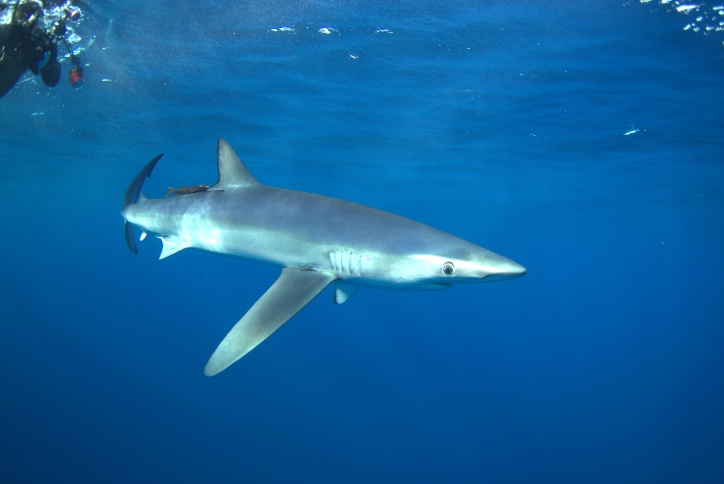Azul: (67, 109, 571, 392)
